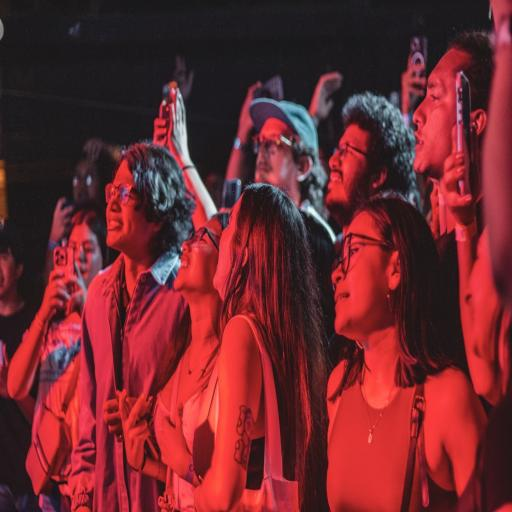face: (332, 212, 393, 339), (413, 50, 468, 179), (326, 124, 371, 226), (174, 218, 222, 302), (255, 119, 300, 205), (107, 188, 157, 260), (69, 223, 103, 287), (73, 160, 102, 207)
